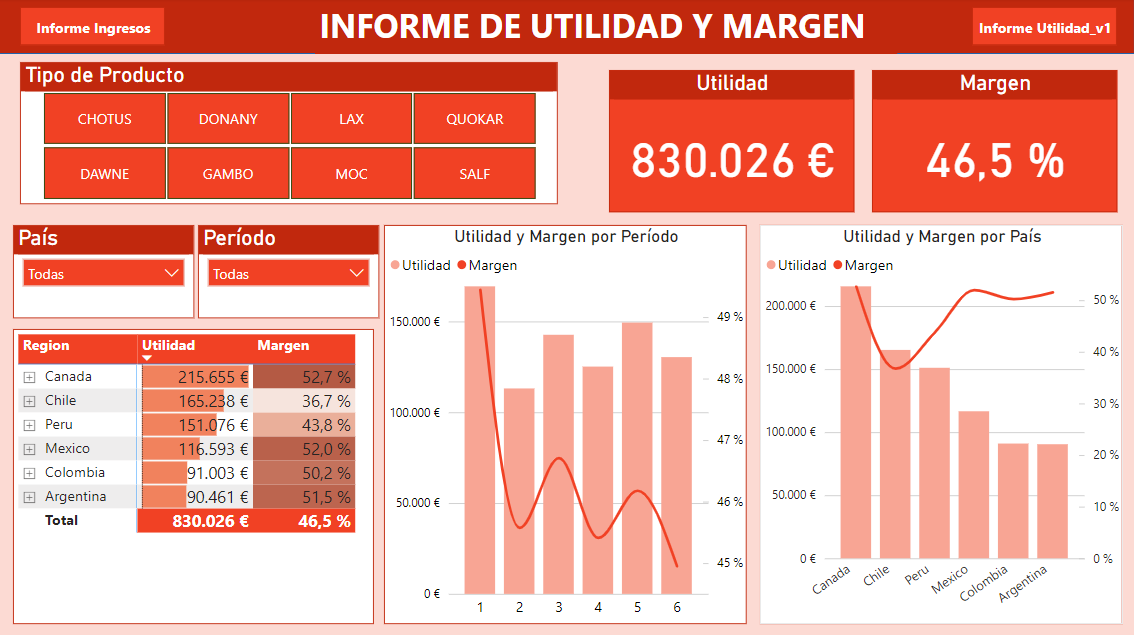

The page's visual inventory and layout, read from the dashboard file:
{"tool":"powerbi","page":{"name":"Informe Utilidad_v1","canvas":[1280,720],"ordinal":5},"visuals":[{"type":"slicer","title":"Tipo de Producto","fields":{"Values":["LookupsProducto.Tipo de Producto"]},"box":[612,77.6,455.6,159.8],"z":0},{"type":"pivotTable","fields":{"Rows":["LookupsCliente.Region","TablaFinanzas.Cliente"],"Values":["TablaFinanzas.Utilidad","TablaFinanzas.Margen"]},"box":[10.1,247.5,285.8,448.9],"z":1000},{"type":"lineStackedColumnComboChart","title":"Utilidad y Margen por País","fields":{"Y2":["TablaFinanzas.Margen"],"Y":["TablaFinanzas.Utilidad"],"Category":["LookupsCliente.Region"]},"box":[316.1,247.5,462.4,448.9],"z":2000},{"type":"lineStackedColumnComboChart","fields":{"Y2":["TablaFinanzas.Margen"],"Y":["TablaFinanzas.Utilidad"],"Category":["TablaFinanzas.Período"]},"box":[797.6,247.5,462.4,448.9],"z":3000},{"type":"shape","box":[0,0,1280.2,63],"z":4000},{"type":"textbox","box":[357.7,0,608.4,62.7],"z":5000},{"type":"card","title":"Utilidad","fields":{"Values":["TablaFinanzas.Utilidad"]},"box":[20.2,77.6,275.6,159.8],"z":6000},{"type":"card","title":"Margen","fields":{"Values":["TablaFinanzas.Margen"]},"box":[316.1,77.6,275.6,159.8],"z":7000},{"type":"shape","box":[1080,77.6,181.1,160.9],"z":8000},{"type":"actionButton","box":[1089,105.8,163.1,42.8],"z":9500},{"type":"actionButton","box":[1089,169.9,163.1,42.8],"z":9501}]}

Visuals, with their boxes in screenshot pixels (x1, y1, x2, y2), scaled from the page's 1280x720 canvas onto the 1134x635 screenshot:
"Tipo de Producto" slicer: x1=542 y1=68 x2=946 y2=209
pivotTable - LookupsCliente.Region x TablaFinanzas.Cliente: x1=9 y1=218 x2=262 y2=614
"Utilidad y Margen por País" lineStackedColumnComboChart: x1=280 y1=218 x2=690 y2=614
lineStackedColumnComboChart - TablaFinanzas.Margen x TablaFinanzas.Utilidad: x1=707 y1=218 x2=1116 y2=614
shape: x1=0 y1=0 x2=1133 y2=56
textbox: x1=317 y1=0 x2=856 y2=55
"Utilidad" card: x1=18 y1=68 x2=262 y2=209
"Margen" card: x1=280 y1=68 x2=524 y2=209
shape: x1=957 y1=68 x2=1117 y2=210
actionButton: x1=965 y1=93 x2=1109 y2=131
actionButton: x1=965 y1=150 x2=1109 y2=188
